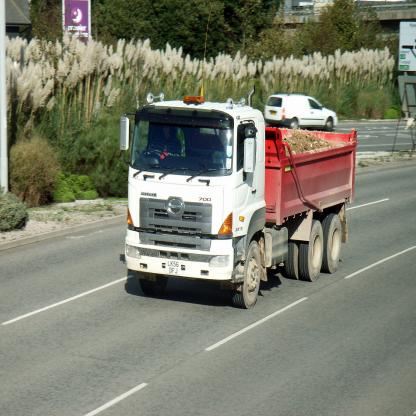dump_truck: (114, 85, 362, 309)
